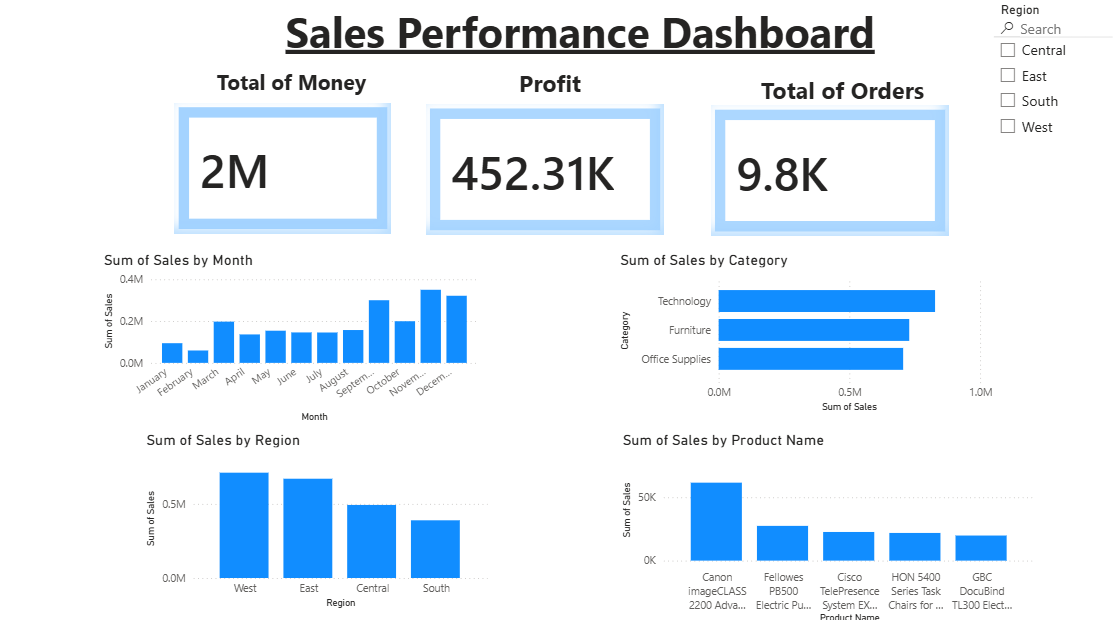

The page's visual inventory and layout, read from the dashboard file:
{"tool":"powerbi","page":{"name":"Page 1","canvas":[1280,720],"ordinal":0},"visuals":[{"type":"textbox","box":[318.6,0,695.7,88.6],"z":0},{"type":"textbox","box":[864.6,81.4,204.3,45.7],"z":1000},{"type":"cardVisual","fields":{"Data":["train.Total Sales (Total Money)"]},"box":[203.3,119.8,248.4,149.6],"z":2000},{"type":"clusteredColumnChart","fields":{"Category":["train.Order Date.Variation.Date Hierarchy.Month"],"Y":["Sum(train.Sales)"]},"box":[117.1,288.6,437.1,201.4],"z":3000},{"type":"barChart","fields":{"Category":["train.Category"],"Y":["Sum(train.Sales)"]},"box":[707.1,288.6,435.7,190],"z":4000},{"type":"clusteredColumnChart","fields":{"Y":["Sum(train.Sales)"],"Category":["train.Region"]},"box":[165.7,494.3,400,208.6],"z":5000},{"type":"clusteredColumnChart","fields":{"Y":["Sum(train.Sales)"],"Category":["train.Product Name"]},"box":[710,494.3,481.4,225.7],"z":6000},{"type":"cardVisual","fields":{"Data":["Sum(train.Profit)"]},"box":[490.1,121.2,273.1,149.6],"z":7000},{"type":"cardVisual","fields":{"Data":["CountNonNull(train.Order ID)"]},"box":[815.3,122.6,273.1,149.6],"z":8000},{"type":"textbox","box":[234.6,74.3,204.3,45.7],"z":9000},{"type":"textbox","box":[530.4,74.3,204.3,45.7],"z":10000},{"type":"slicer","fields":{"Values":["train.Region"]},"box":[1134.3,0,145.7,182.9],"z":11000}]}

Visuals, with their boxes in screenshot pixels (x1, y1, x2, y2), scaled from the page's 1280x720 canvas onto the 1117x622 screenshot:
textbox: <box>278,0,885,77</box>
textbox: <box>754,70,933,110</box>
cardVisual - train.Total Sales (Total Money): <box>177,103,394,233</box>
clusteredColumnChart - train.Order Date.Variation.Date Hierarchy.Month x Sum(train.Sales): <box>102,249,484,423</box>
barChart - train.Category x Sum(train.Sales): <box>617,249,997,413</box>
clusteredColumnChart - Sum(train.Sales) x train.Region: <box>145,427,494,607</box>
clusteredColumnChart - Sum(train.Sales) x train.Product Name: <box>620,427,1040,621</box>
cardVisual - Sum(train.Profit): <box>428,105,666,234</box>
cardVisual - CountNonNull(train.Order ID): <box>711,106,950,235</box>
textbox: <box>205,64,383,104</box>
textbox: <box>463,64,641,104</box>
slicer - train.Region: <box>990,0,1116,158</box>
